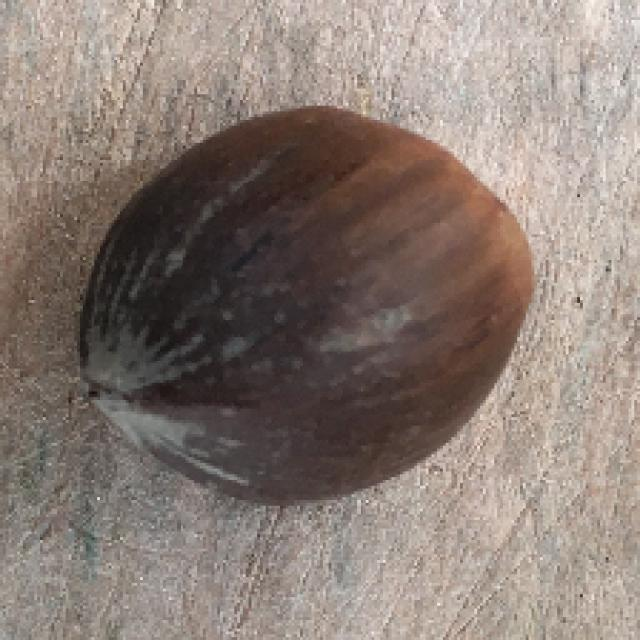DamagedHazelnut: (82, 101, 537, 506)
